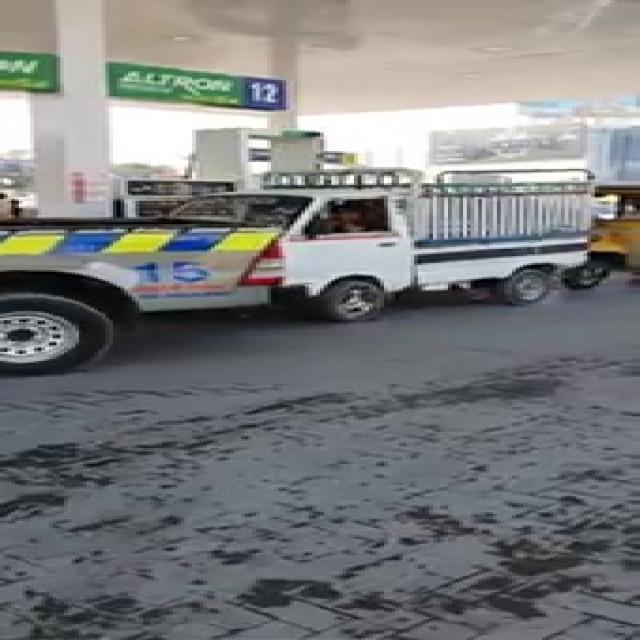police: (0, 211, 312, 382)
